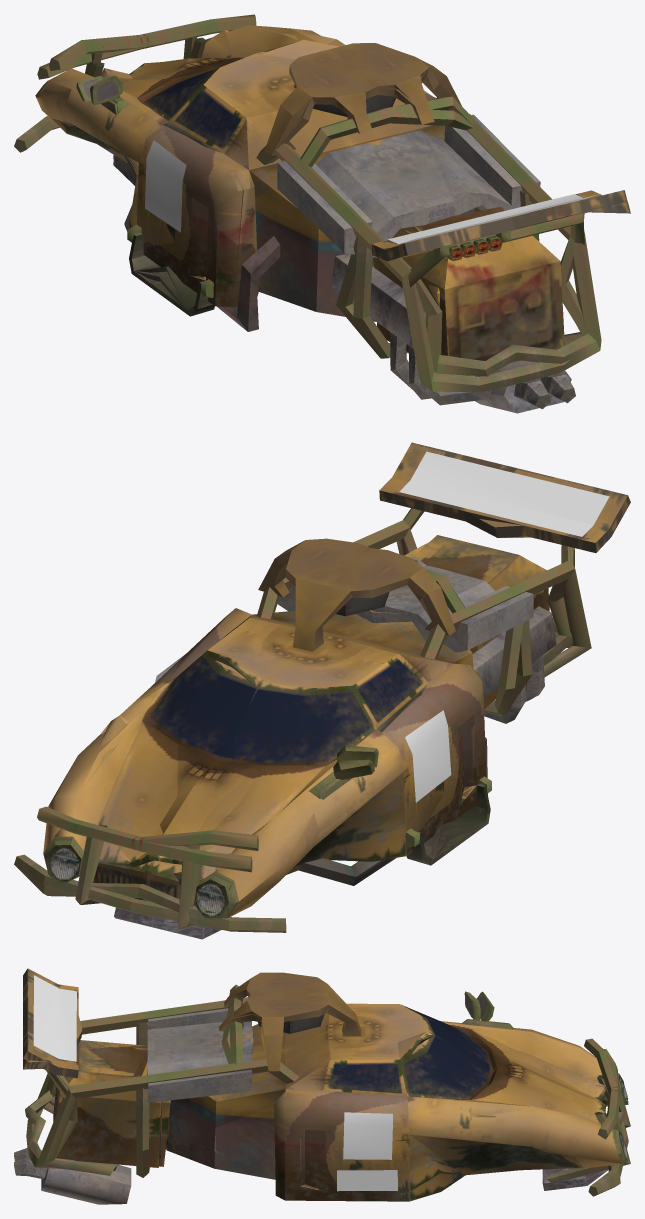
File: cab01.fbx
3 renders of one model, top to bottom at view 1: azimuth 30°, elevation 25°; view 2: azimuth 150°, elevation 25°; view 3: azimuth 270°, elevation 25°, orthographic. The views are drawn at different scales.
Visible parts, largest first — view 1: polySurface311_1, polySurface289_1, polySurface311_2, polySurface279_1, logotip_1, polySurface283_1, polySurface283_2, polySurface311_3, polySurface289_3, polySurface276_1, polySurface310_1, polySurface289_2 (+1 smaller); view 2: polySurface311_1, polySurface289_1, polySurface283_1, polySurface276_1, polySurface283_2, logotip_1, polySurface310_1, polySurface311_2, polySurface279_1, polySurface311_3, polySurface289_3, polySurface289_2 (+2 smaller); view 3: polySurface311_1, polySurface310_1, polySurface311_2, logotip_1, polySurface283_1, polySurface283_2, polySurface276_1, polySurface279_1, polySurface310_3, polySurface289_1, polySurface311_3, polySurface289_2 (+1 smaller).
Boxes of the visible parts, <box> form: polySurface311_1: <box>143,43,627,392</box>; polySurface289_1: <box>36,68,280,331</box>; polySurface311_2: <box>205,67,630,376</box>; polySurface279_1: <box>330,253,575,413</box>; logotip_1: <box>145,90,599,244</box>; polySurface283_1: <box>14,14,256,185</box>; polySurface283_2: <box>46,35,244,183</box>; polySurface311_3: <box>261,39,496,357</box>; polySurface289_3: <box>132,122,250,310</box>; polySurface276_1: <box>149,68,240,147</box>; polySurface310_1: <box>201,25,480,211</box>; polySurface289_2: <box>35,75,186,309</box>; polySurface311_1: <box>147,442,630,765</box>; polySurface289_1: <box>194,663,491,918</box>; polySurface283_1: <box>14,720,325,939</box>; polySurface276_1: <box>151,656,421,763</box>; polySurface283_2: <box>15,721,324,933</box>; logotip_1: <box>155,451,609,802</box>; polySurface310_1: <box>43,608,251,883</box>; polySurface311_2: <box>221,453,626,688</box>; polySurface279_1: <box>472,606,556,723</box>; polySurface311_3: <box>203,556,532,715</box>; polySurface289_3: <box>377,685,485,859</box>; polySurface289_2: <box>195,759,485,917</box>; polySurface311_1: <box>23,968,493,1179</box>; polySurface310_1: <box>274,1089,628,1201</box>; polySurface311_2: <box>23,969,418,1179</box>; logotip_1: <box>33,975,397,1191</box>; polySurface283_1: <box>467,1029,630,1196</box>; polySurface283_2: <box>471,1030,624,1195</box>; polySurface276_1: <box>405,1007,489,1098</box>; polySurface279_1: <box>14,1148,131,1204</box>; polySurface310_3: <box>327,1096,626,1200</box>; polySurface289_1: <box>440,991,628,1106</box>; polySurface311_3: <box>139,1017,433,1065</box>; polySurface289_2: <box>477,991,627,1099</box>.
Bounding box in the file's own units: 2.39 × 1.94 × 5.66.
